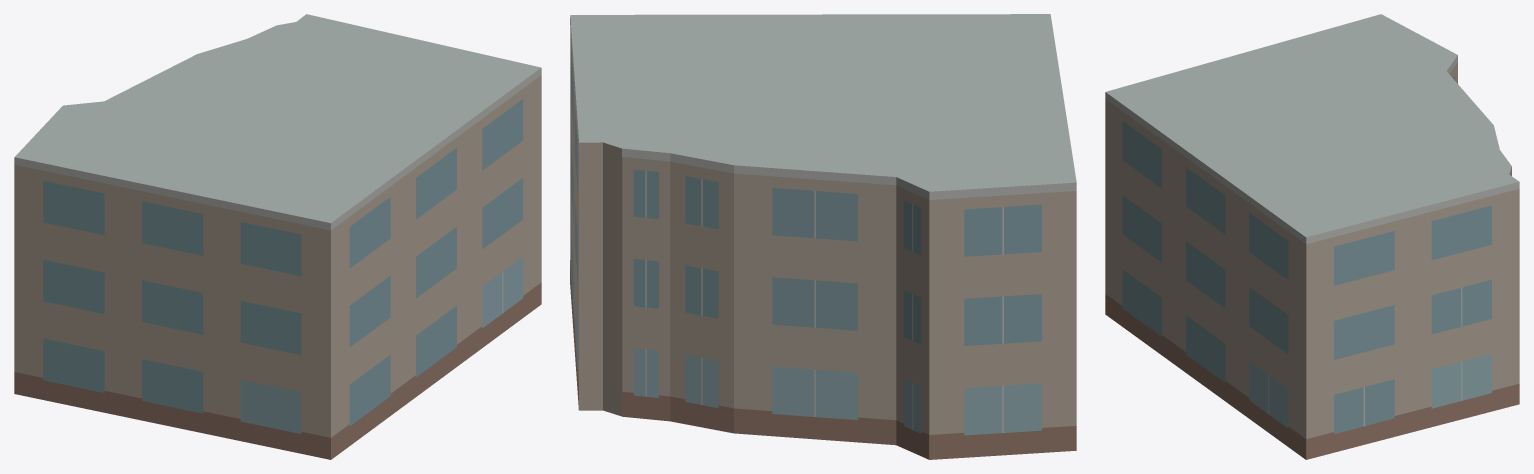
File: survey-upis-32960977.glb
The picture shows the model from 3 angles, left to right: view 1: azimuth 30°, elevation 25°; view 2: azimuth 150°, elevation 25°; view 3: azimuth 270°, elevation 25°; orthographic projection. The views are drawn at different scales.
Visible parts, largest first — view 1: survey-upis-32960977.tmp; view 2: survey-upis-32960977.tmp; view 3: survey-upis-32960977.tmp.
Part boxes in pixels (<box>): survey-upis-32960977.tmp: <box>14,14,541,459</box>; survey-upis-32960977.tmp: <box>570,14,1076,459</box>; survey-upis-32960977.tmp: <box>1105,14,1519,459</box>.
Size of the model in its own units: 17.02 by 7.9 by 13.34.
